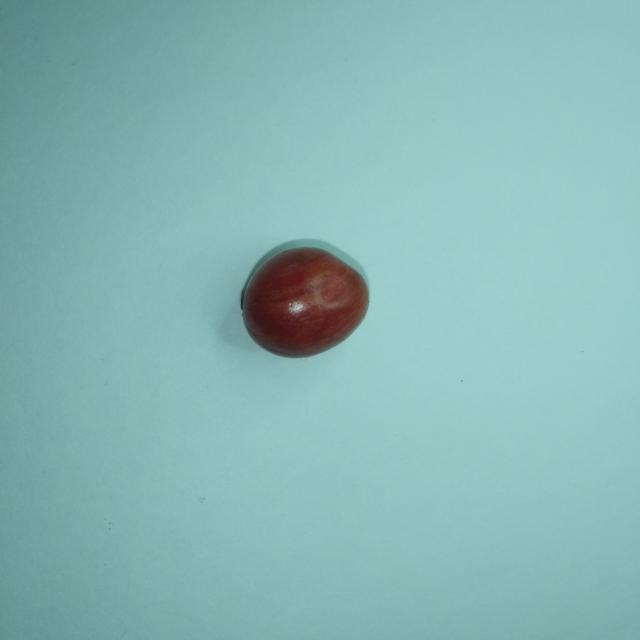Sano: (241, 241, 368, 357)
